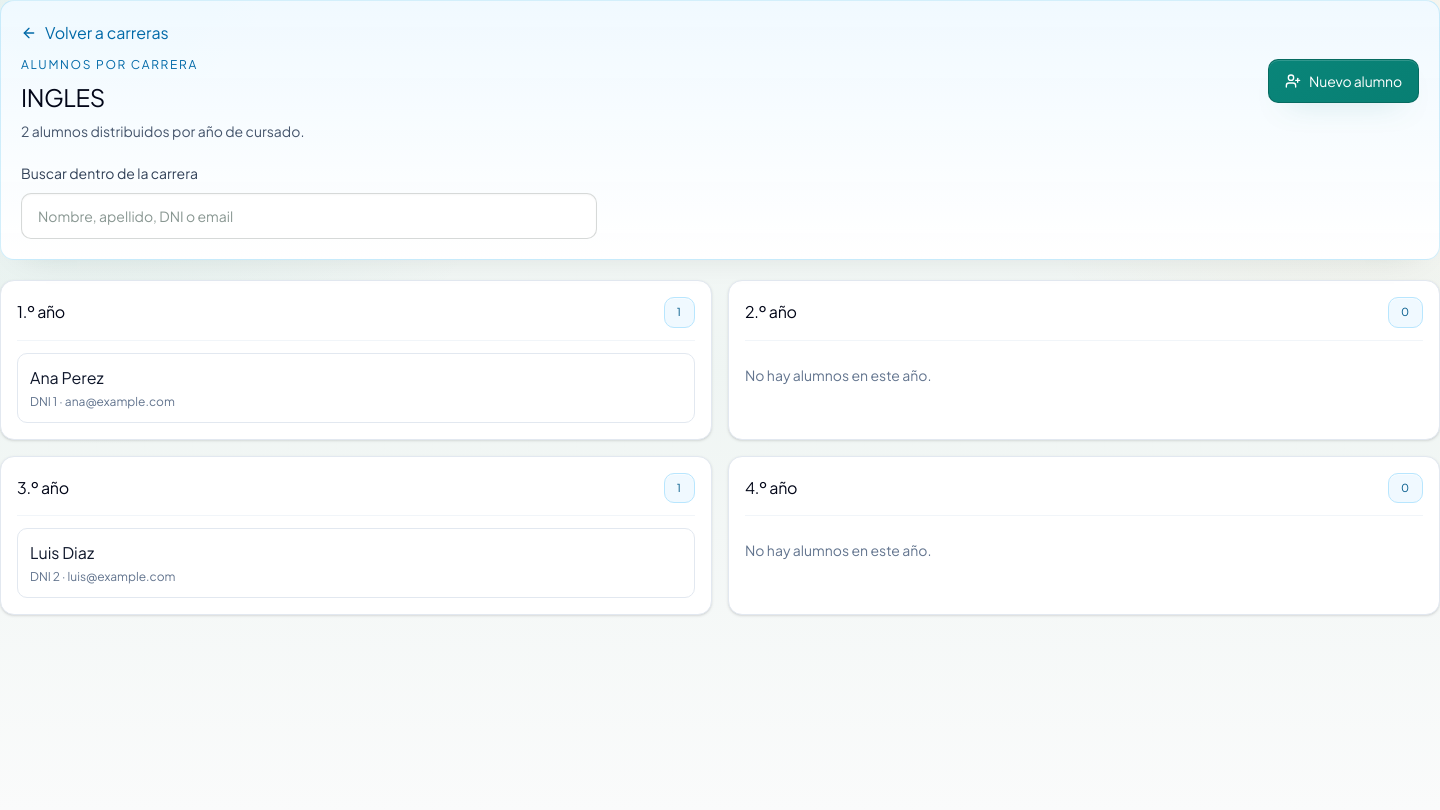
Test case: StudentRosterSection con plantilla nueva › agrupa una carrera por anio y abre el modal al seleccionar un alumno
expect the heading "1.º año" is shown: met, box 17,300 -> 65,324
expect the heading "2.º año" is shown: met, box 745,300 -> 797,324
What coordinates should you click on to do the following:
click the text "Ana Perez"
I would click on:
 (67, 377)
Its box is 30,366 -> 104,388.
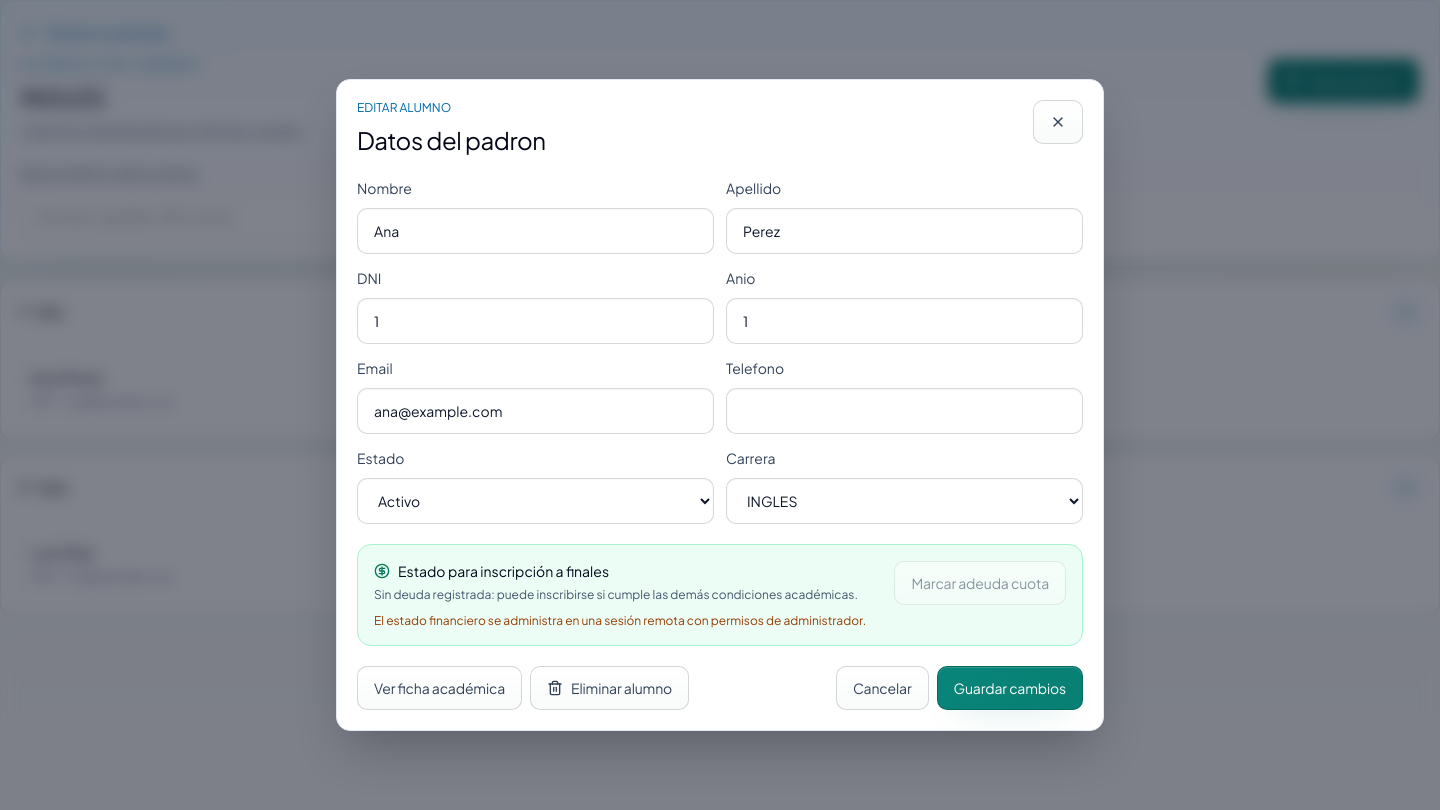
expect the heading "Datos del padron" is shown: met, box 357,124 -> 546,156
expect the button "Marcar adeuda cuota" is disabled: met, box 894,561 -> 1066,605
expect the button "Ver ficha académica" is shown: met, box 357,666 -> 522,710
